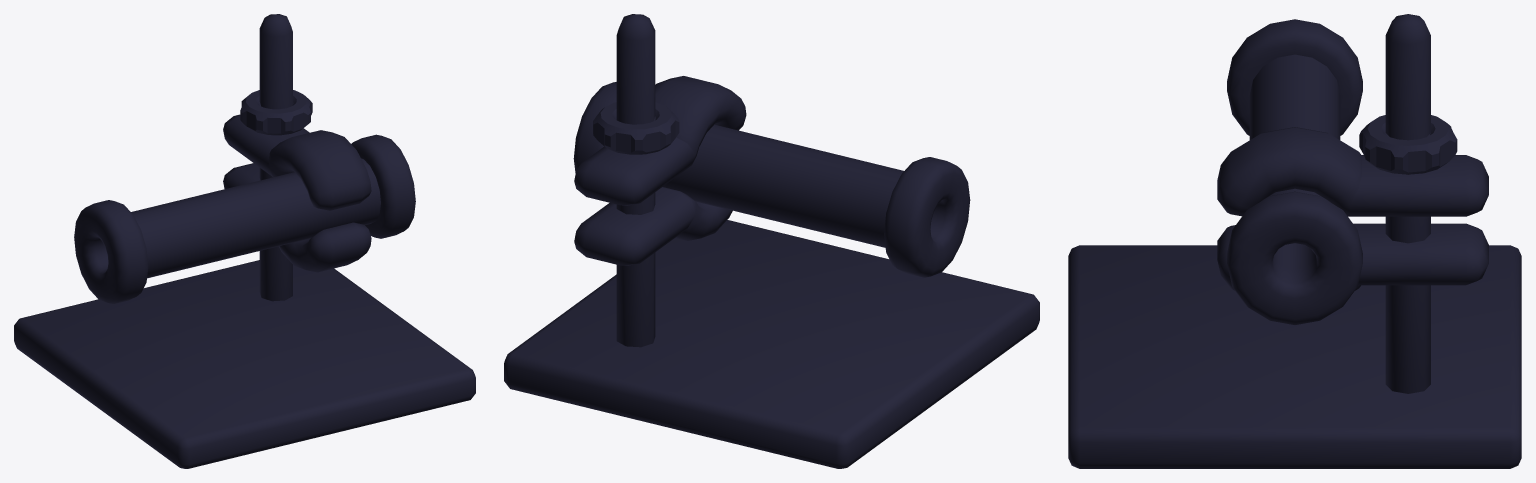
Rendered from Constructing_Pipe_Stand.fbx.
3 views of the same model, side by side, from view 1: azimuth 30°, elevation 25°; view 2: azimuth 150°, elevation 25°; view 3: azimuth 270°, elevation 25° (orthographic). The views are drawn at different scales.
Visible parts, largest first — view 1: Stand_Base_Small001; view 2: Stand_Base_Small001; view 3: Stand_Base_Small001.
Part boxes in pixels (left/top/right/bottom): Stand_Base_Small001: left=14, top=14, right=475, bottom=468; Stand_Base_Small001: left=504, top=14, right=1039, bottom=468; Stand_Base_Small001: left=1068, top=14, right=1521, bottom=468.
Bounding box in the file's own units: 100 × 100 × 100.
